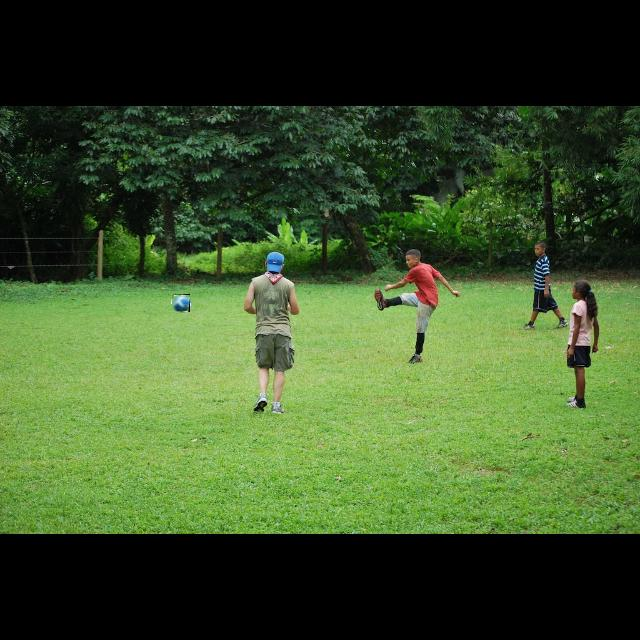Football: (172, 294, 190, 312)
